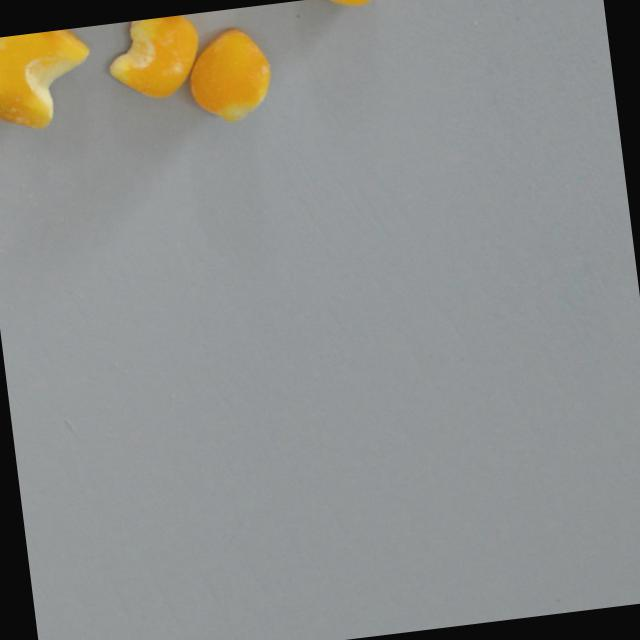no_canjicado: (182, 24, 277, 128), (101, 13, 204, 105), (299, 0, 384, 12)
pelicula: (0, 27, 97, 137), (0, 36, 14, 70)
